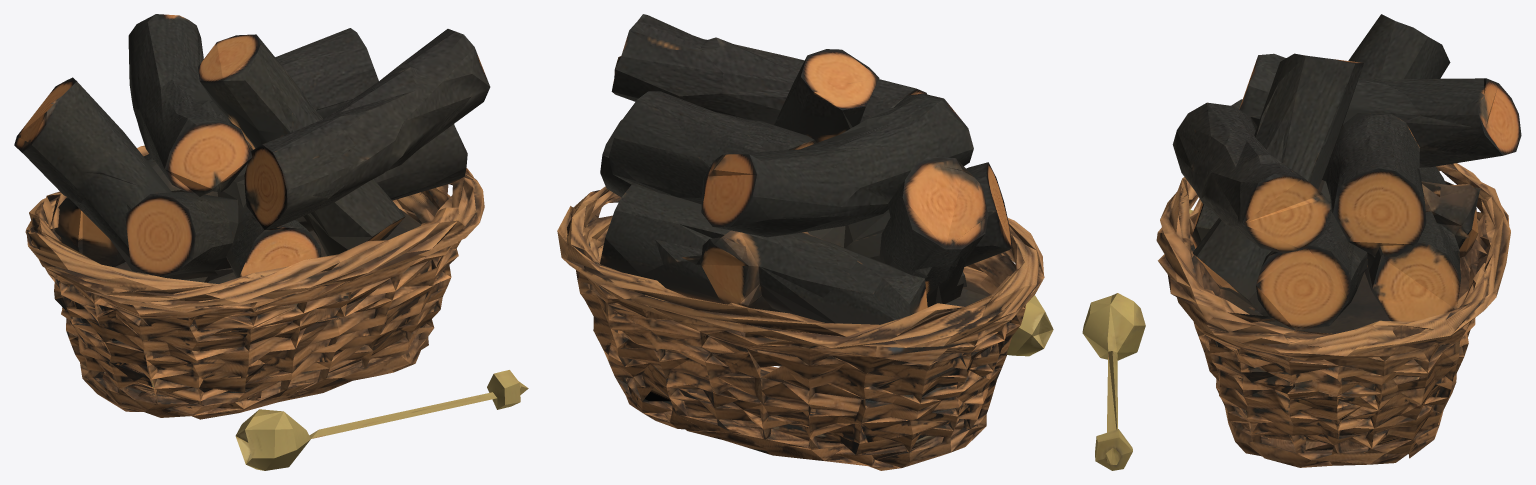
File: log_basket.glb
The picture shows the model from 3 angles, left to right: view 1: azimuth 30°, elevation 25°; view 2: azimuth 150°, elevation 25°; view 3: azimuth 270°, elevation 25°; orthographic projection. The views are drawn at different scales.
Visible parts, largest first — view 1: output_unwrapped; view 2: output_unwrapped; view 3: output_unwrapped.
Boxes of the visible parts, bbox=[...] form: output_unwrapped: bbox=[14, 14, 528, 470]; output_unwrapped: bbox=[557, 14, 1053, 470]; output_unwrapped: bbox=[1082, 14, 1521, 470].
Bounding box in the file's own units: 0.5191 × 0.3965 × 0.4618.
Materials: 1 (1 with a texture image).
